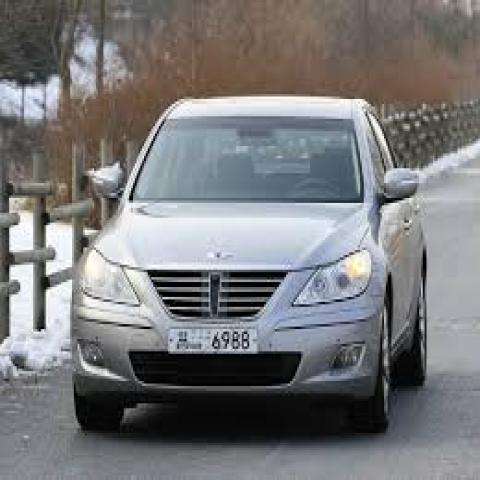LP: (168, 316, 260, 361)
